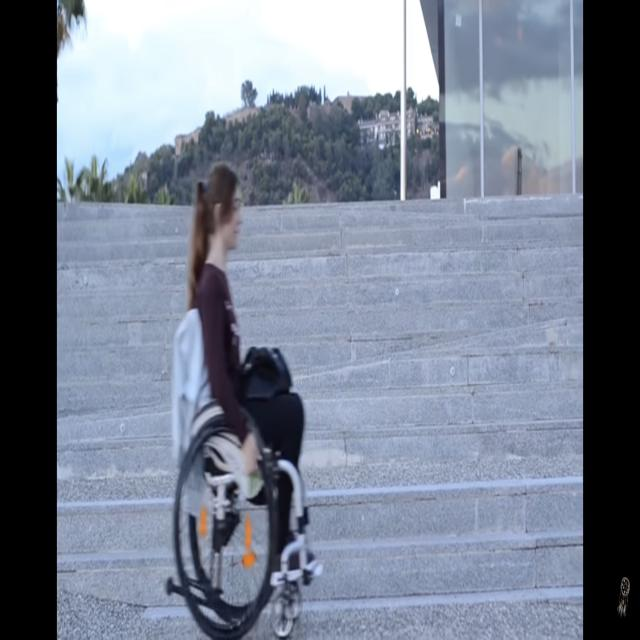wheelchairs: (165, 307, 316, 640)
